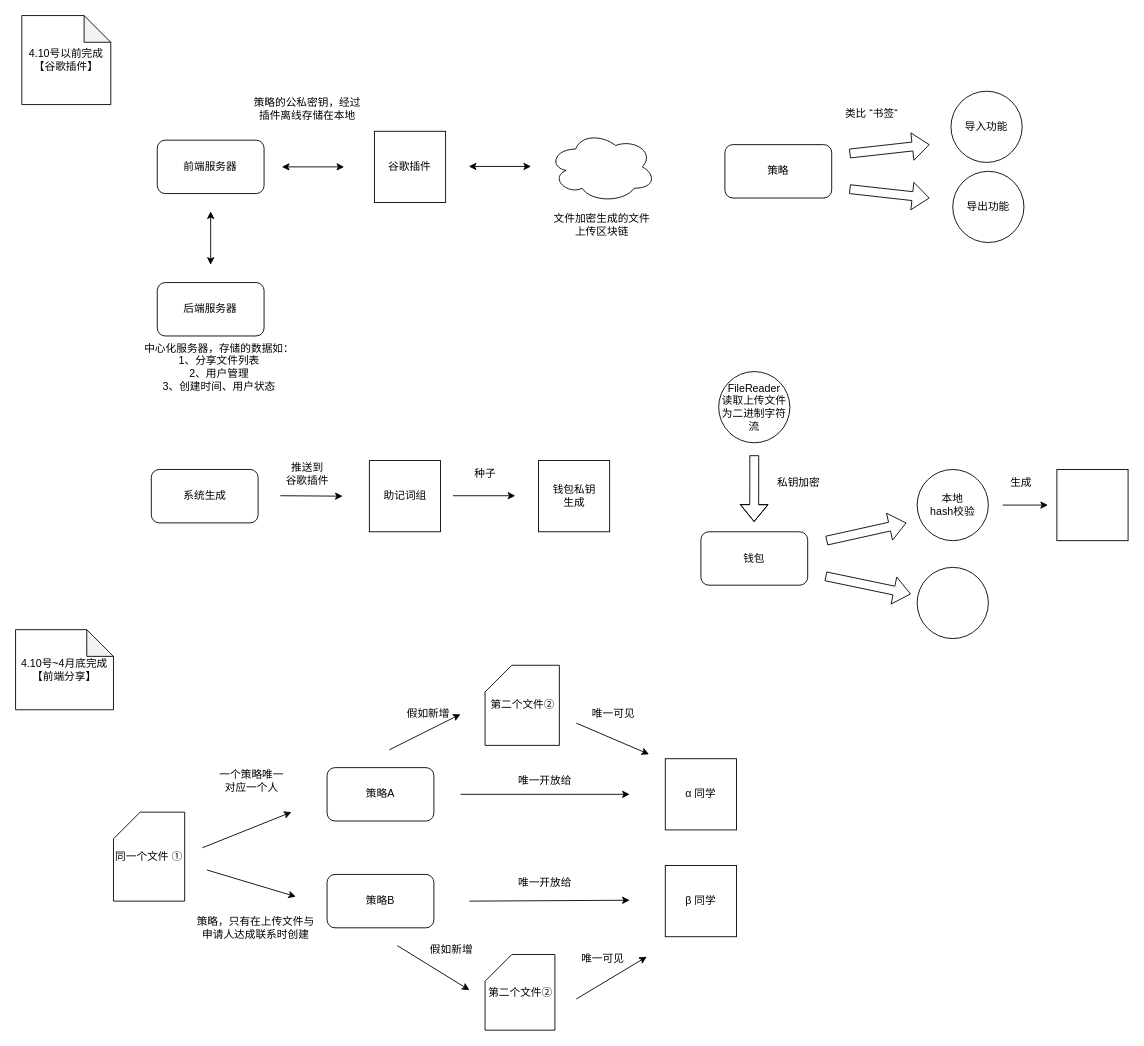
Some shapes in this 1144 by 1046 pixel diagram are drawn without their labels. Each missing label, with the centre of its shape:
"区块链" goes at point (602, 166).
"私钥" goes at point (1092, 505).
"解锁锁定" goes at point (952, 602).
